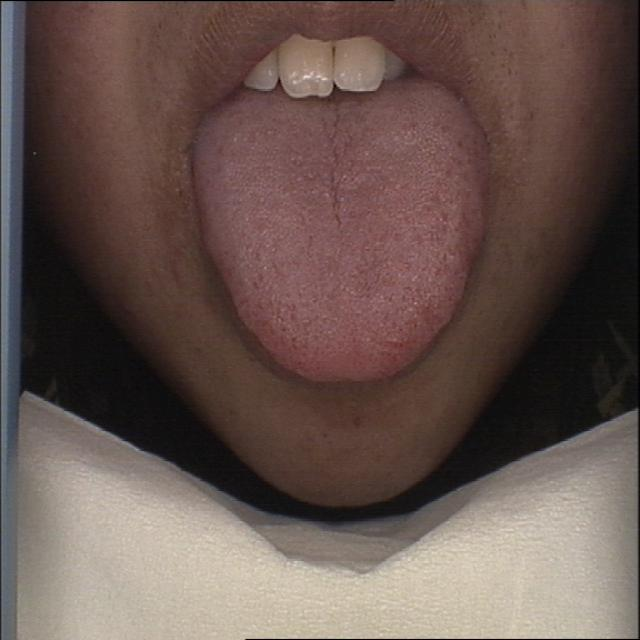tongue: (189, 94, 495, 392)
